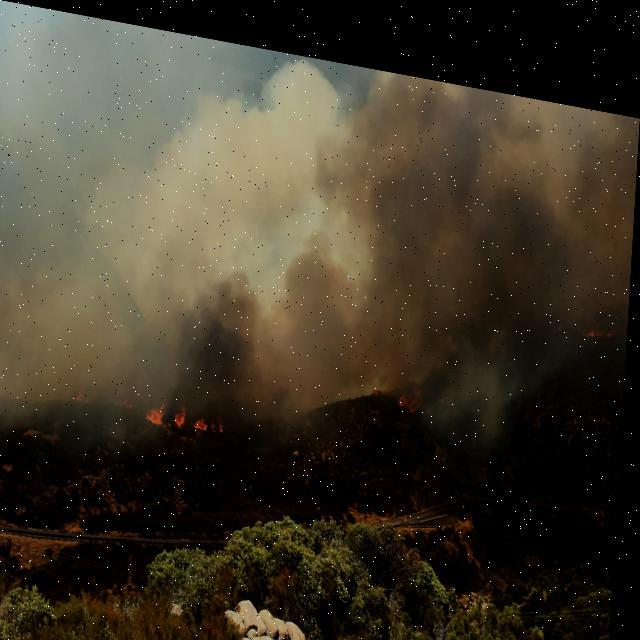Fire: (147, 388, 236, 434), (378, 362, 432, 404)
